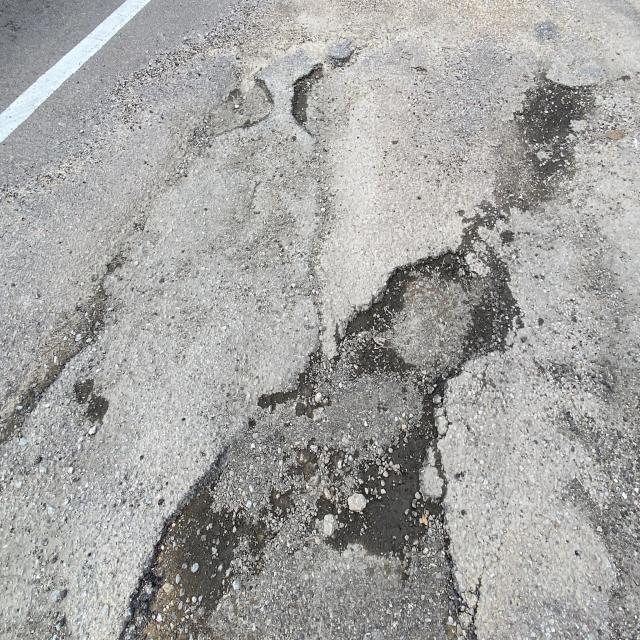pothole: (141, 390, 290, 640), (330, 225, 508, 429), (260, 19, 357, 158)
